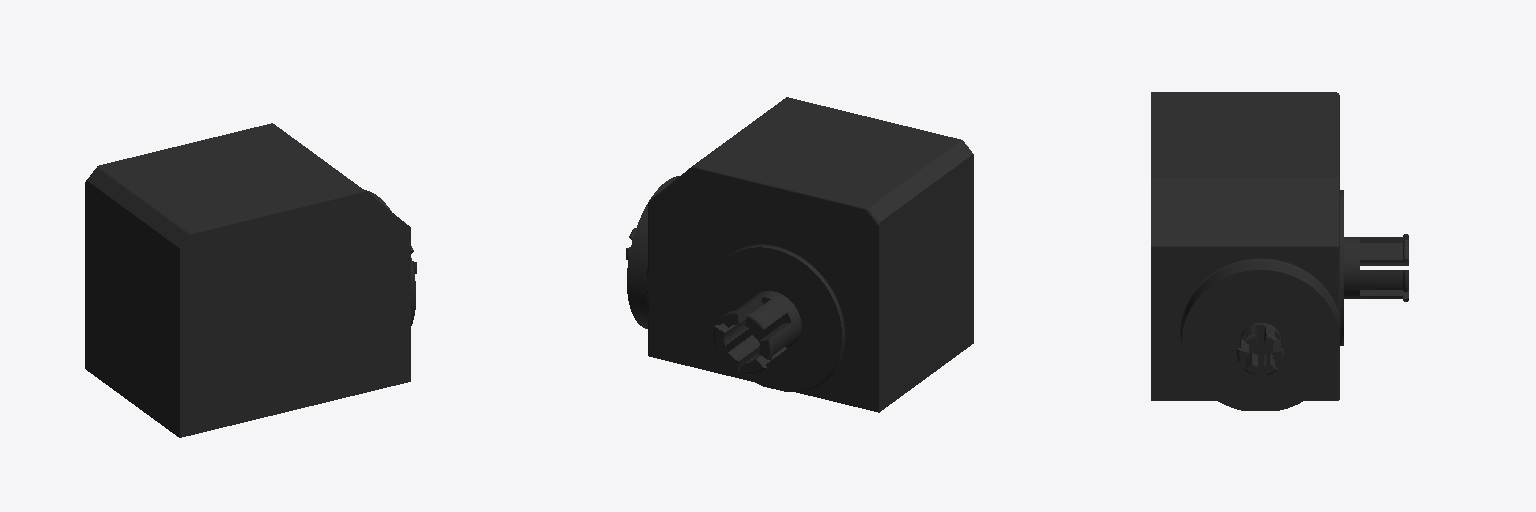
File: transform_5.obj
3 views of the same model, side by side, from view 1: azimuth 30°, elevation 25°; view 2: azimuth 150°, elevation 25°; view 3: azimuth 270°, elevation 25° (orthographic).
Visible parts, largest first — view 1: 0; view 2: 0; view 3: 0.
Part boxes in pixels (x1,y1,x2,y2): 0: (85,123,416,437); 0: (626,97,973,412); 0: (1151,92,1408,410).
Size of the model in its own units: 157 by 107 by 124.